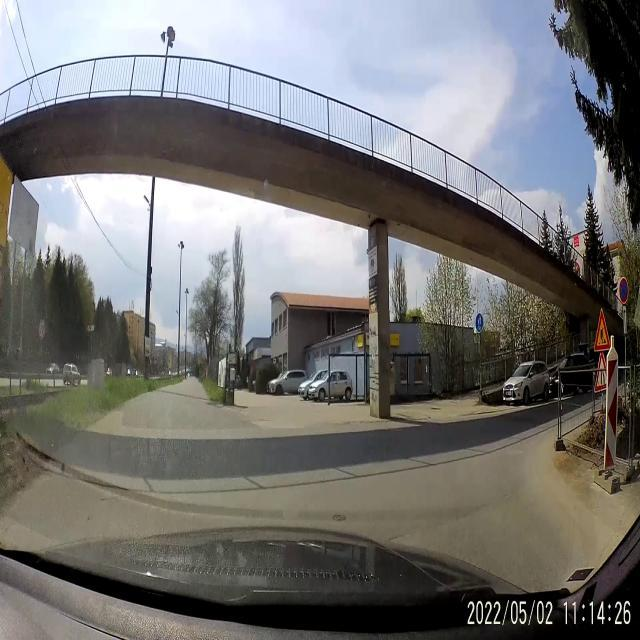Manhole: (331, 510, 348, 523)
